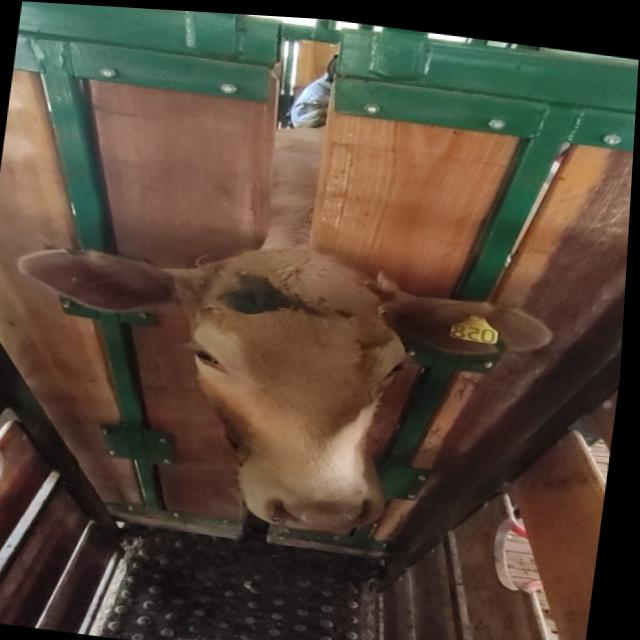cowFace: (169, 237, 420, 539)
